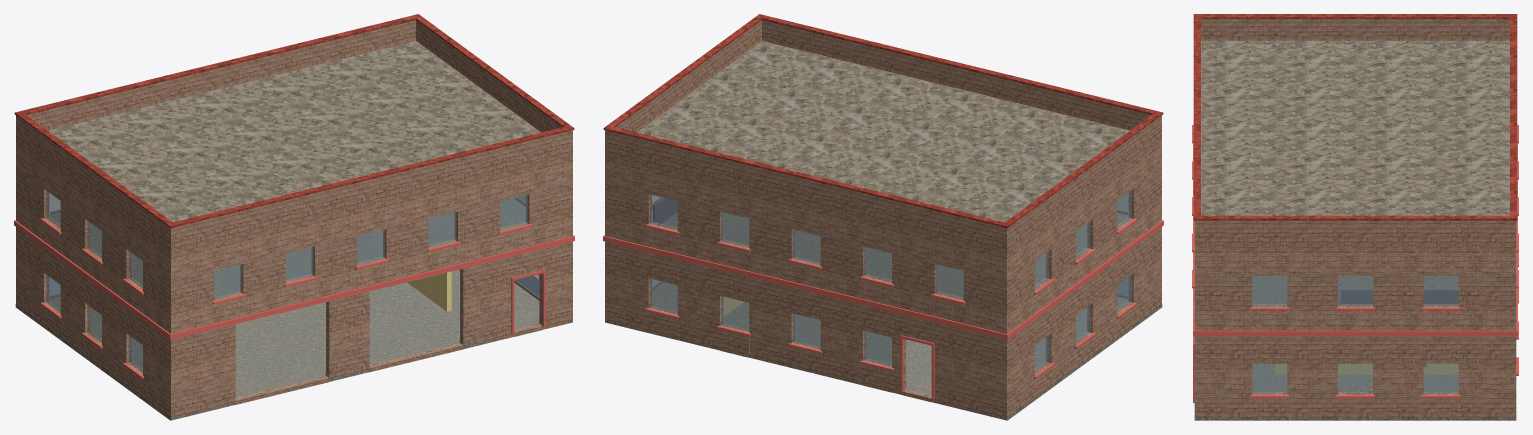
The model's file is crash-station.zfix-v5.lod0.glb.
3 renders of one model, left to right at view 1: azimuth 30°, elevation 25°; view 2: azimuth 150°, elevation 25°; view 3: azimuth 270°, elevation 25°, orthographic. The views are drawn at different scales.
Parts seen in each view (by area): view 1: crash-station; view 2: crash-station; view 3: crash-station.
Part boxes in pixels (box(x1,y1,x2,y2)): crash-station: box(14, 14, 574, 420); crash-station: box(603, 14, 1163, 420); crash-station: box(1192, 14, 1518, 420).
Size of the model in its own units: 18.2 by 8.34 by 12.2.
5 materials, 3 textured.
